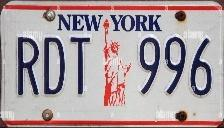6: (188, 35, 214, 97)
9: (161, 34, 189, 97), (136, 34, 163, 97)
D: (42, 35, 67, 97)
R: (15, 35, 43, 97)
T: (68, 35, 93, 98)
